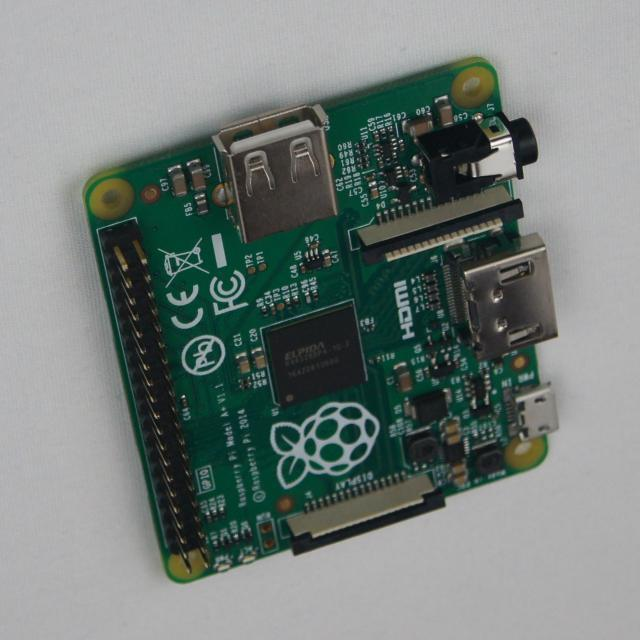Raspberry-Pi-1-A-: (84, 58, 559, 583)
